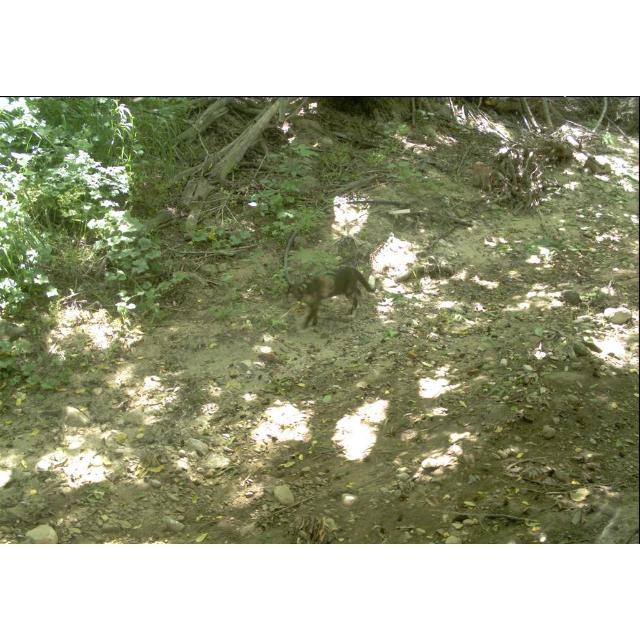animals: (282, 266, 382, 330)
